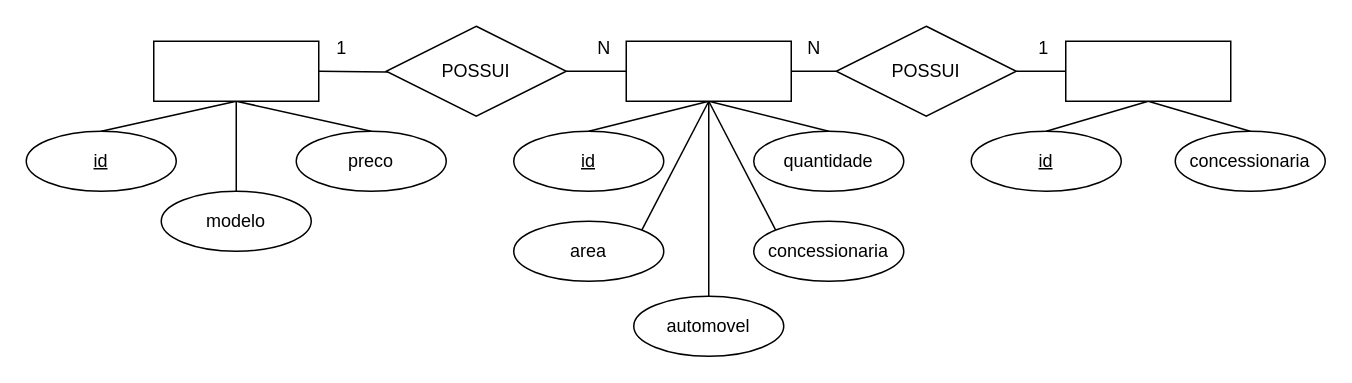
The diagram is 1352 pixels wide and 383 high, and some of its shapes have lost their labels. Each missing label, with the box of its shape:
tb_alocacao: (625, 40, 791, 101)
tb_automovel: (152, 40, 319, 101)
tb_concessionaria: (1064, 40, 1231, 101)
